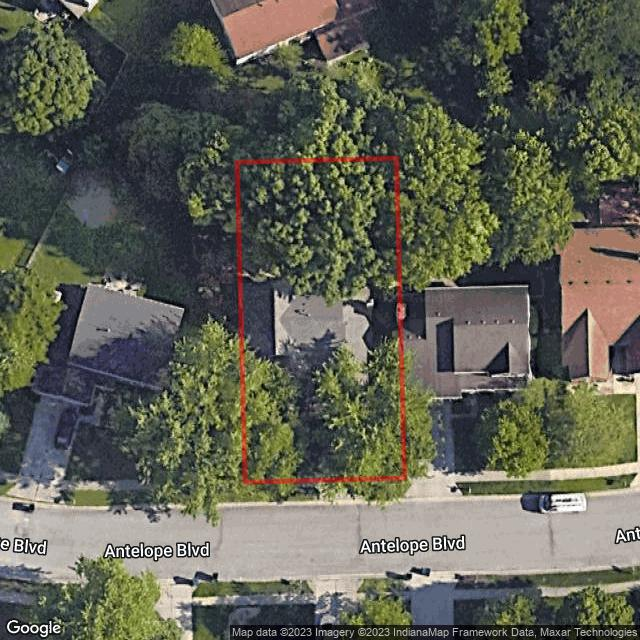Driveway: (303, 354, 350, 476)
Extra Driveway: (312, 485, 350, 498)
Extra Lawn: (242, 484, 312, 501), (350, 483, 408, 501)
House: (274, 273, 375, 394)
